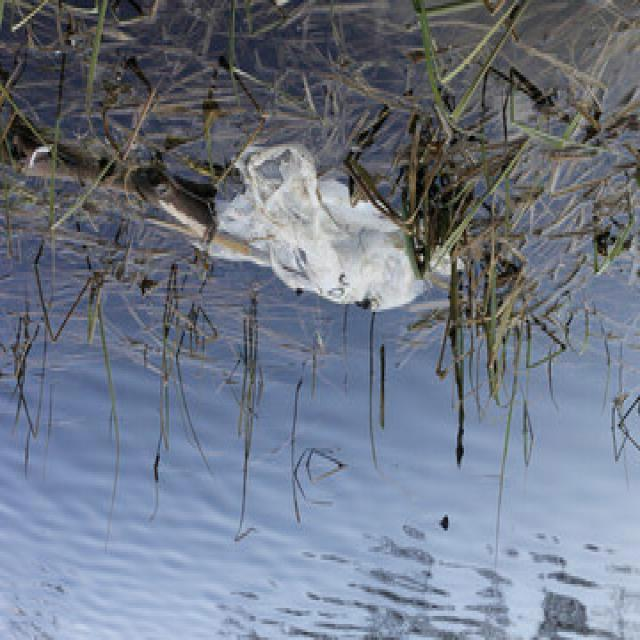Trash: (198, 140, 439, 309)
